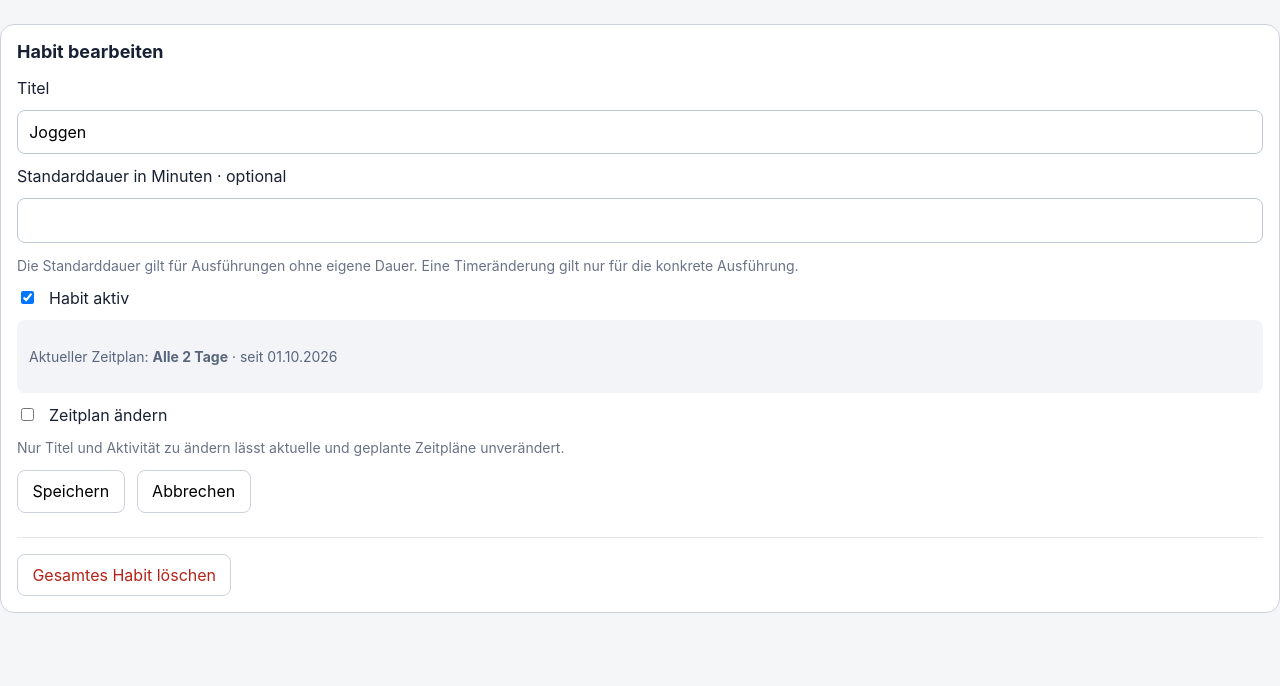
PlannerItemEditor › rejects invalid or past effective date '2026-10-01' before any write
Click the checkbox named "changeSchedule" at (28, 415), box [21, 408, 34, 421]
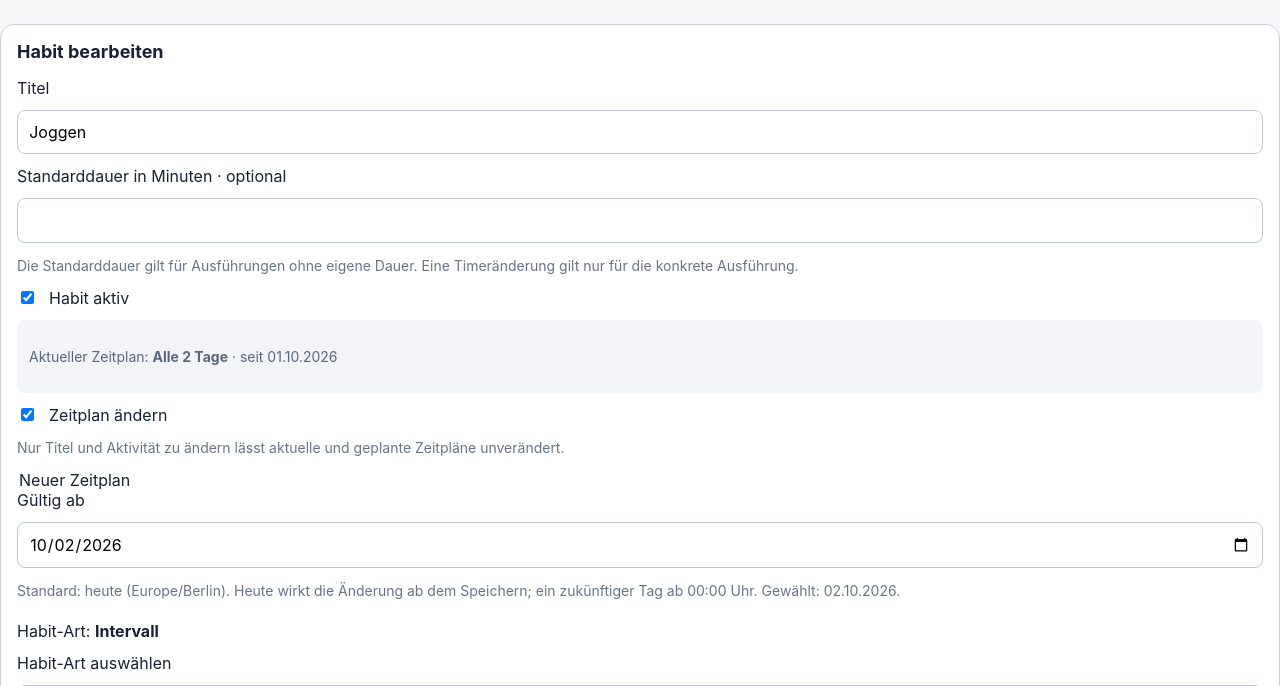
Replace the text in the field named "title" with "Neuer Titel" at (640, 132), box [17, 110, 1263, 154]
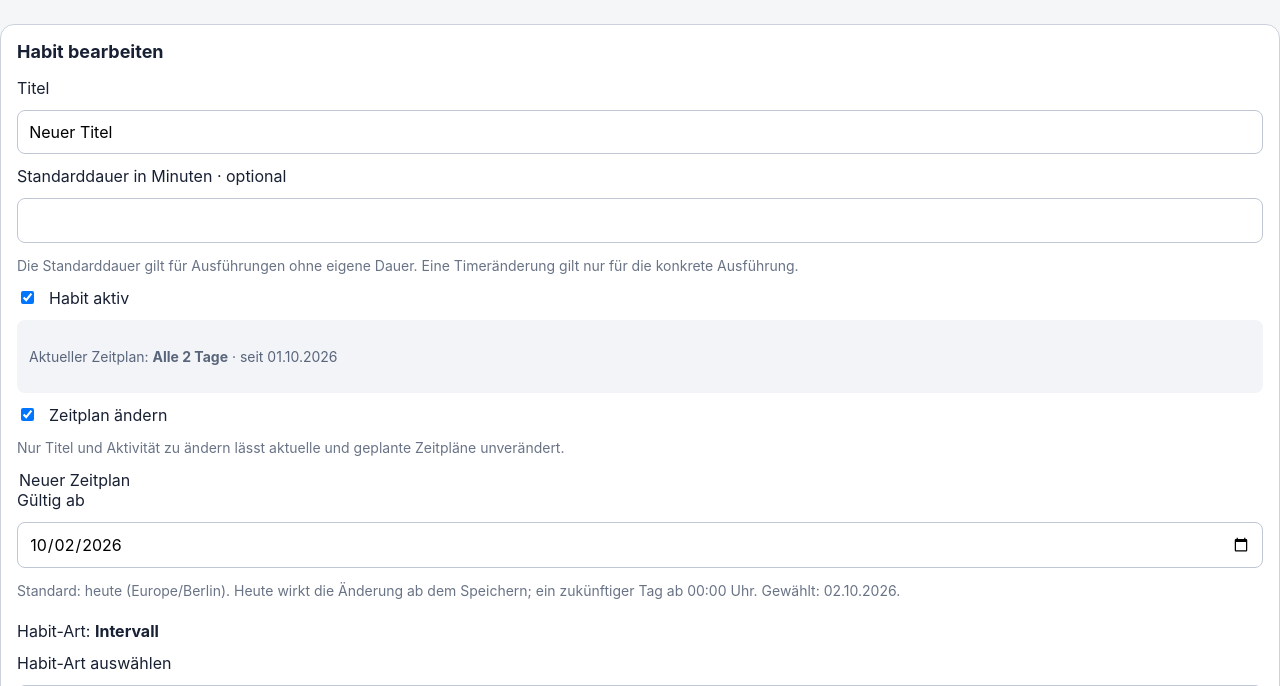
Type "2026-10-01" into the date field named "effectiveFrom" at (640, 545), box [17, 522, 1263, 568]
(page scrolled)
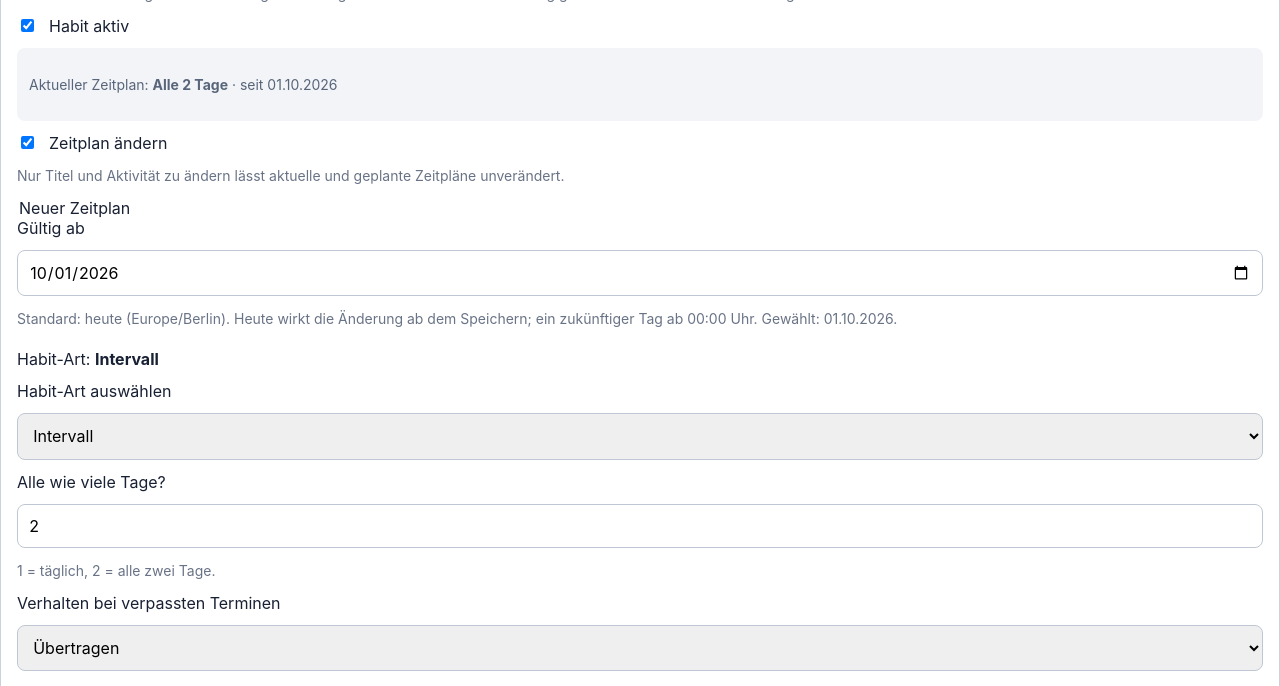
Submit the form
(page scrolled)
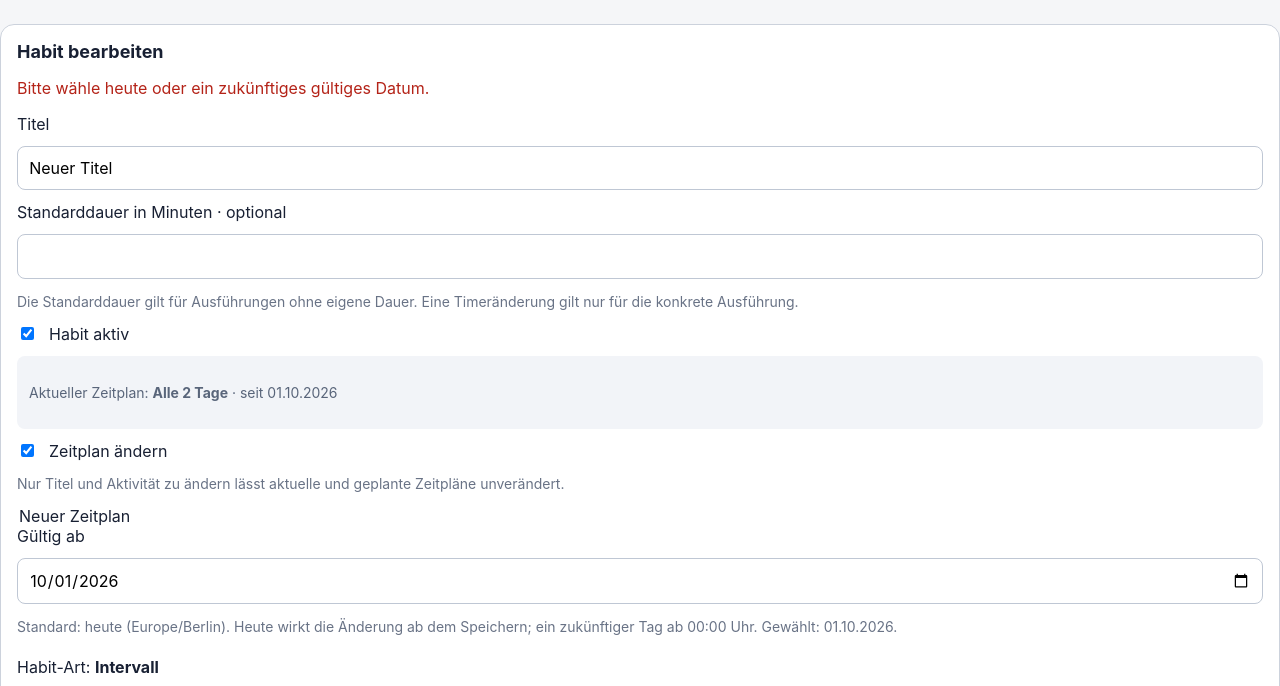
Check: the message "Bitte wähle heute oder ein zukünftiges gültiges Datum." is shown, box [17, 78, 429, 98]
